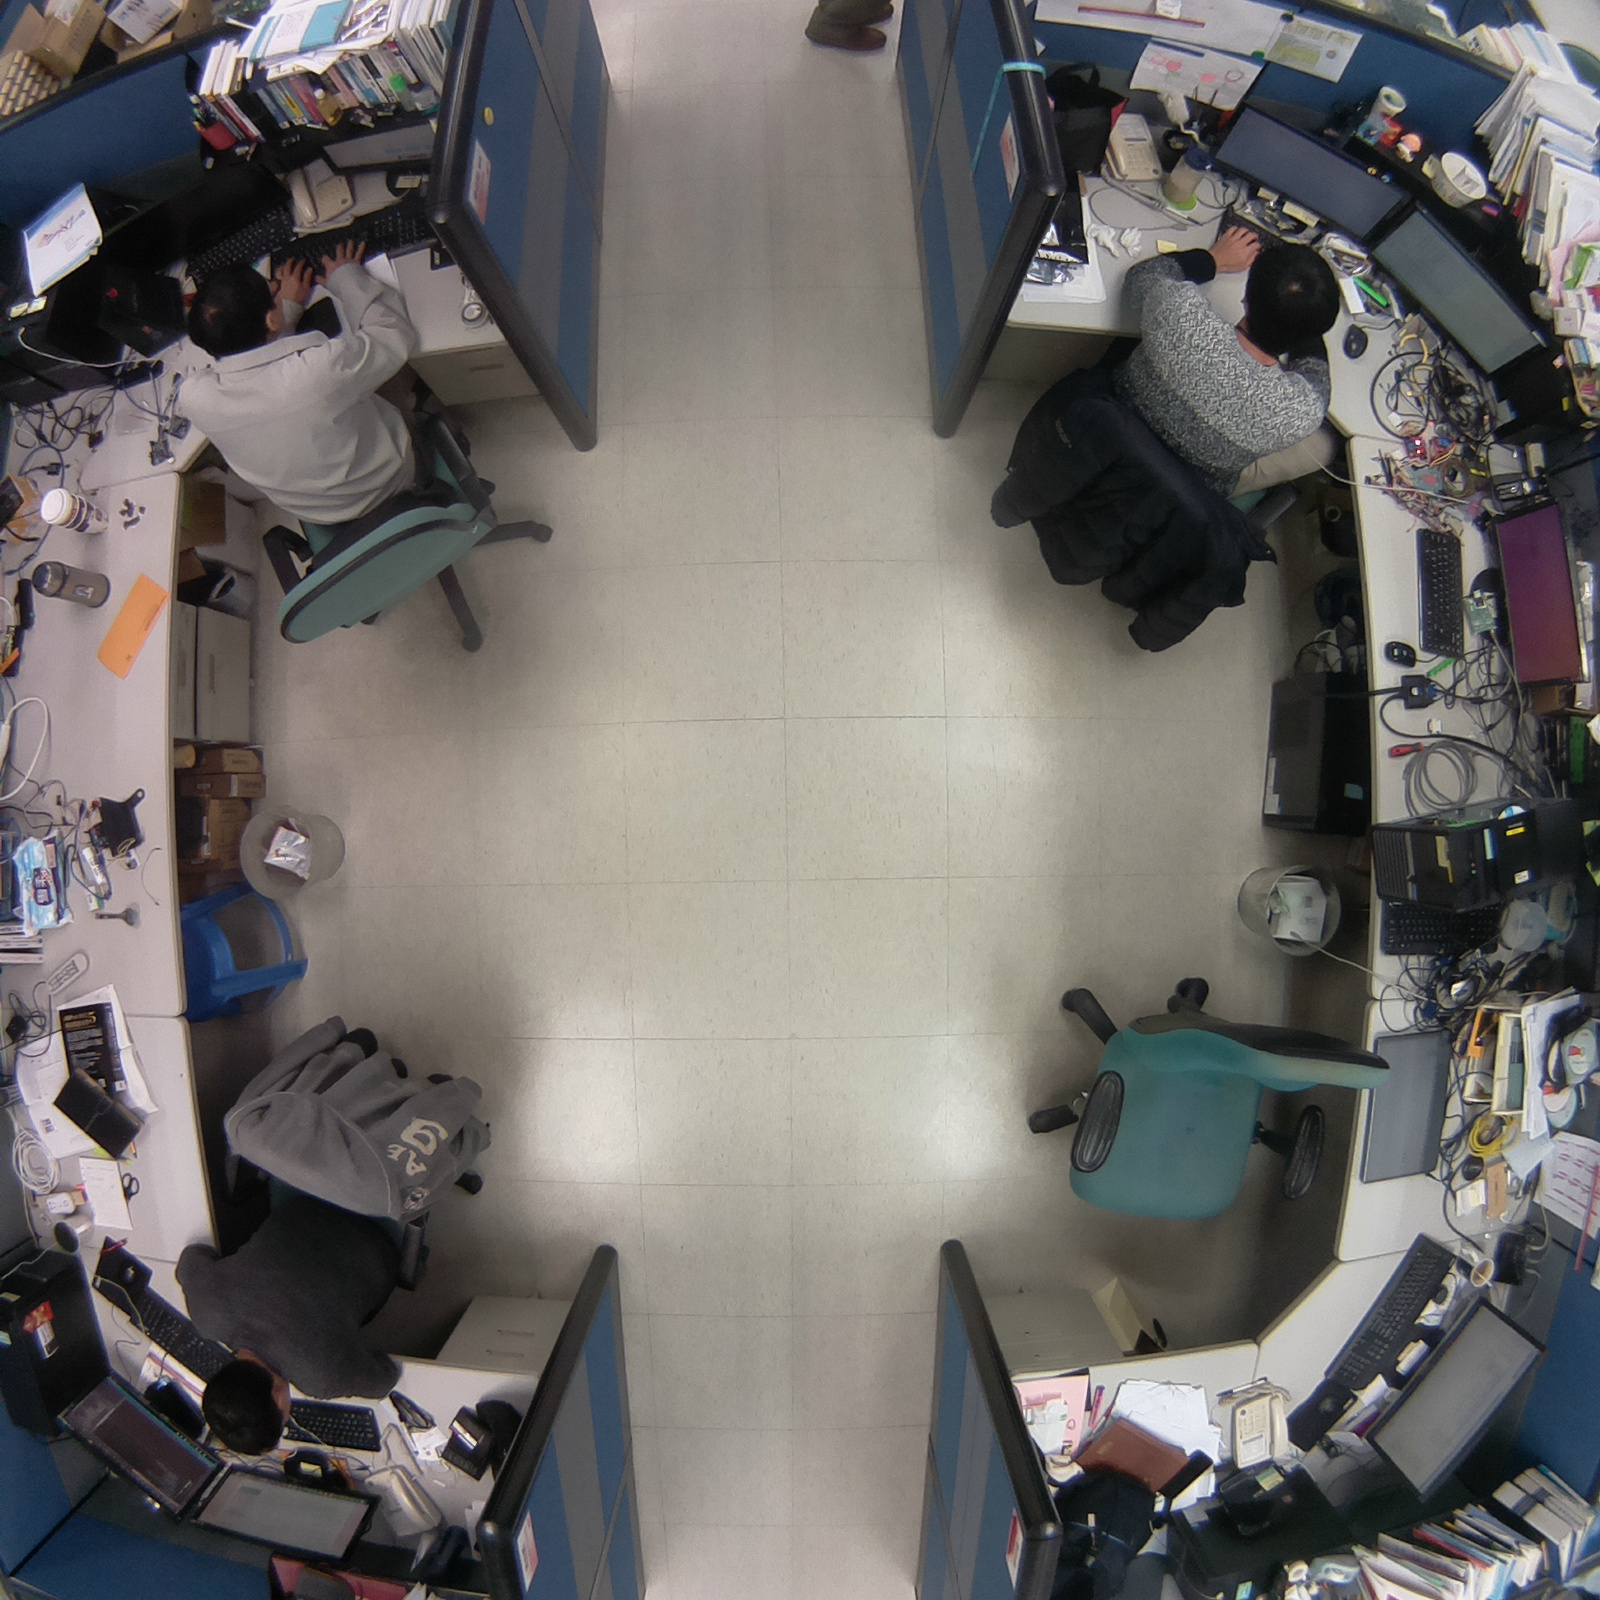chair: (1005, 958, 1408, 1240)
sitting: (154, 210, 570, 681), (970, 212, 1363, 671), (157, 1010, 530, 1489)
